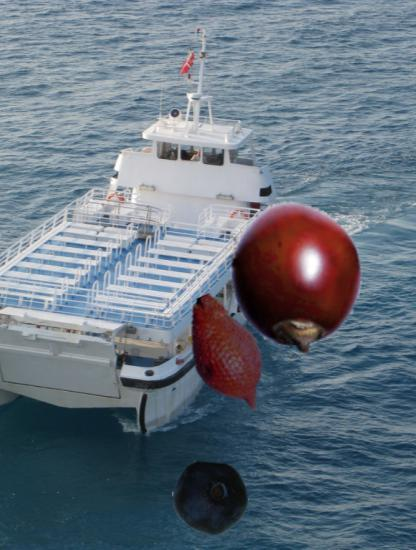Blueberry: (172, 460, 249, 537)
Salak: (163, 291, 290, 418)
Tamarillo: (221, 202, 371, 352)
